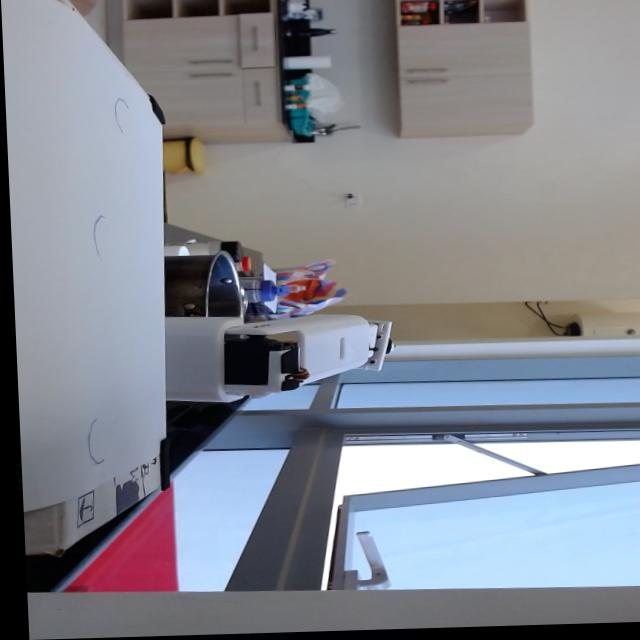cooking_pot: (157, 255, 263, 326)
